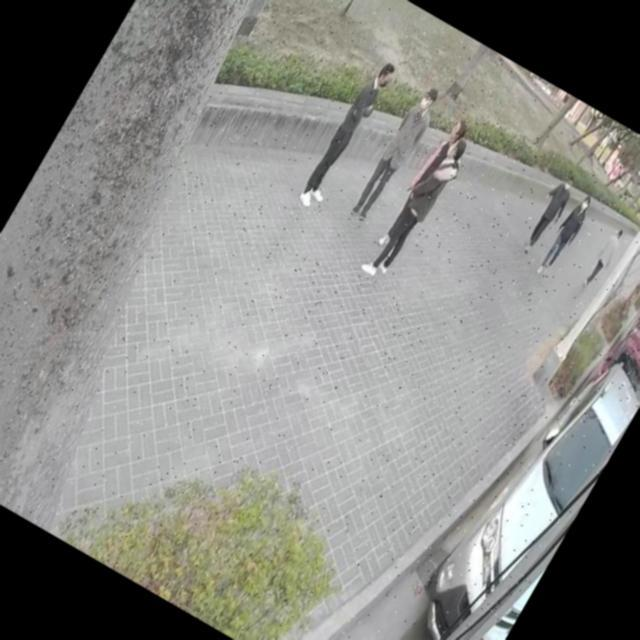person: (352, 123, 477, 294), (371, 107, 479, 265), (297, 54, 399, 208), (348, 82, 446, 226), (532, 182, 602, 278), (514, 164, 584, 258), (574, 218, 632, 298)
